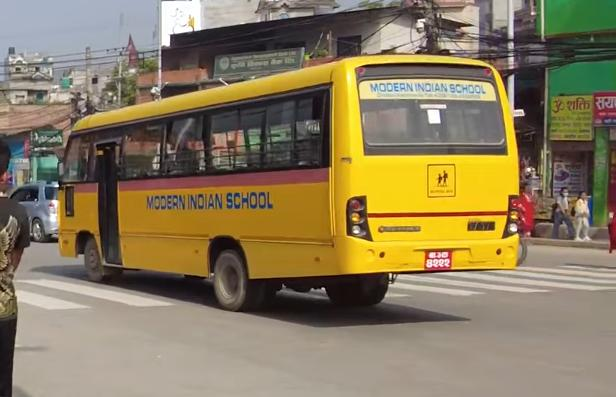school_bus: (55, 54, 524, 317)
